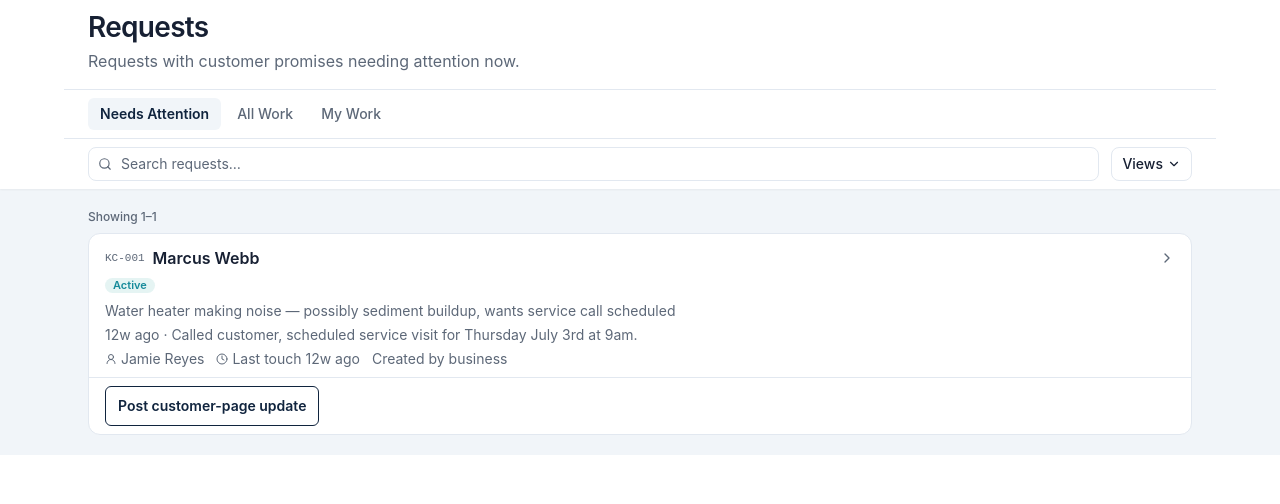
Scenario: Requests — GAP-046 filter-state visibility and recovery › applies a changed search draft after the debounce interval
Expected: the heading "Showing 1–1" is shown, left=88, top=209, right=157, bottom=224
Type "smith" into the field labelled "Search requests" at (594, 164), box left=88, top=147, right=1099, bottom=181
Then press Enter
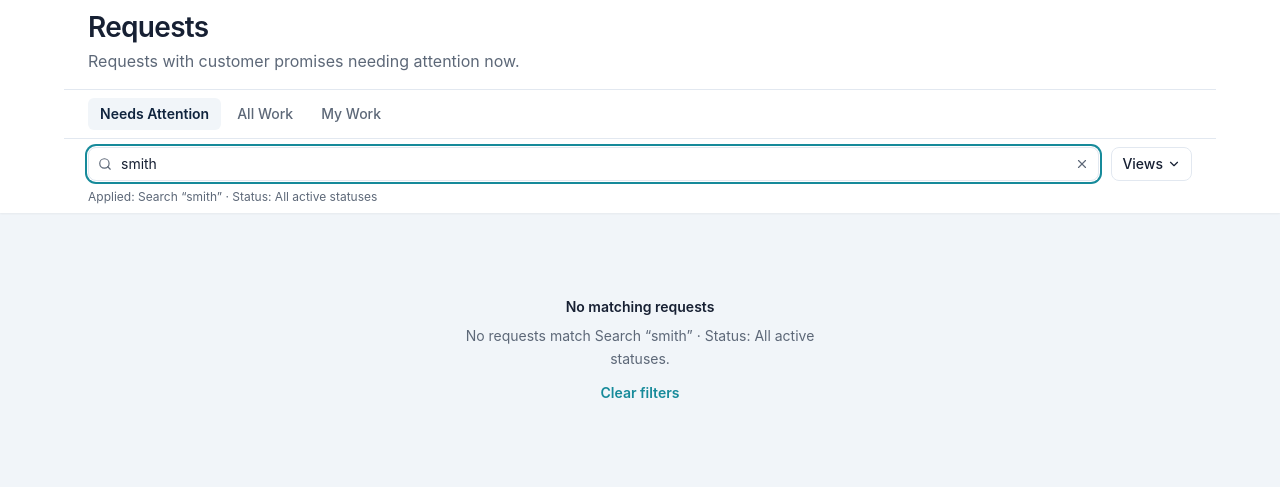
Expected: the text "Applied: Search “smith” · Status: All active statuses" is shown, left=88, top=189, right=377, bottom=204
Replace the text in the field named "Search requests" with "smithers" at (594, 164), box left=88, top=147, right=1099, bottom=181
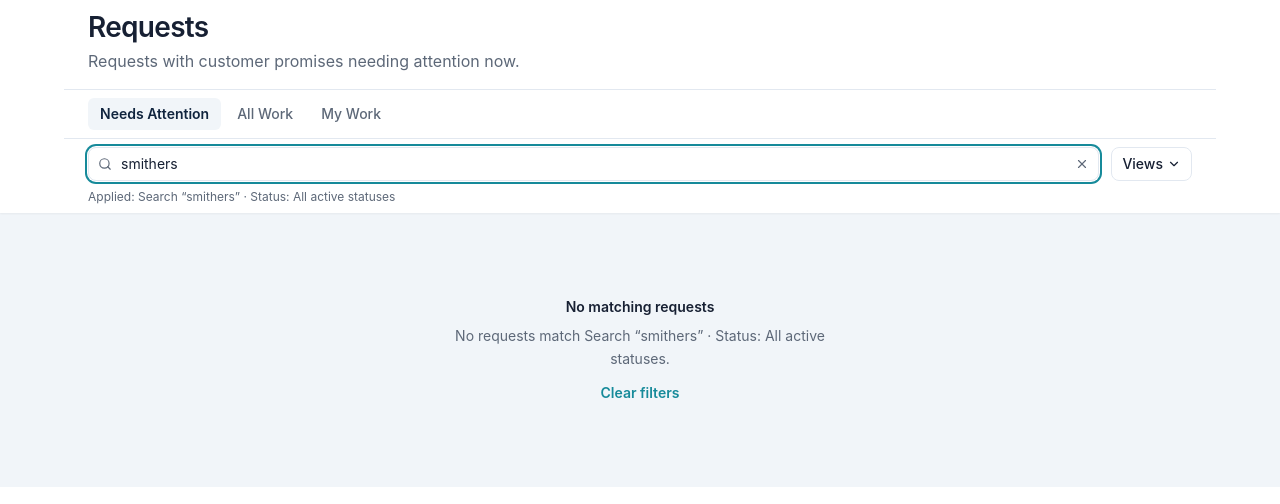
Expected: the text "Applied: Search “smithers” · Status: All active statuses" is shown, left=88, top=189, right=396, bottom=204
